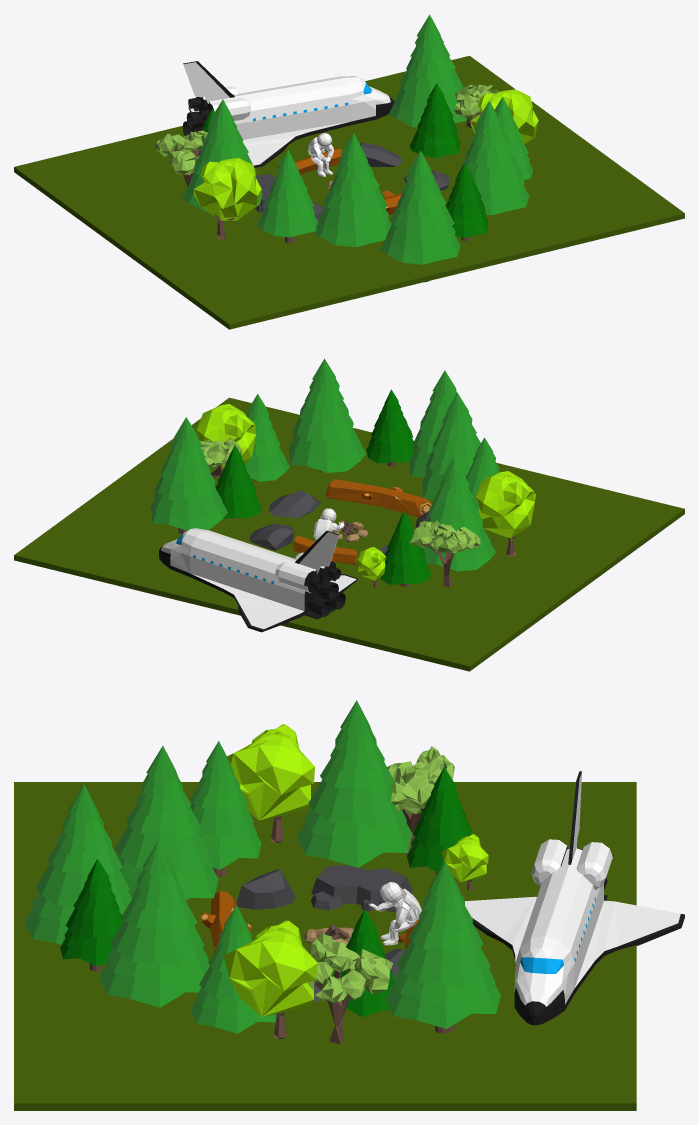
3 renders of one model, top to bottom at view 1: azimuth 30°, elevation 25°; view 2: azimuth 150°, elevation 25°; view 3: azimuth 270°, elevation 25°, orthographic. The views are drawn at different scales.
Parts seen in each view (by area): view 1: Cube, group124037832, Tree.011, Tree.012, Tree.004, Tree.006, Tree.002, Tree.010, Tree.003, Tree.005, Tree.013, Tree.009 (+5 smaller); view 2: Cube, group124037832, Tree.006, Tree.004, Tree.003, Tree.002, Tree.012, Tree.013, Tree, Tree.008, group1305922676, Tree.011 (+10 smaller); view 3: Cube, group124037832, Tree.006, Tree.003, Tree.004, Tree.012, Tree.011, Tree.009, Tree.002, Tree.010, Tree.007, Tree.008 (+9 smaller).
Part boxes in pixels (bbox=[...]): Cube: bbox=[14, 55, 684, 329]; group124037832: bbox=[182, 61, 394, 167]; Tree.011: bbox=[380, 150, 460, 282]; Tree.012: bbox=[313, 133, 391, 247]; Tree.004: bbox=[459, 101, 529, 215]; Tree.006: bbox=[389, 14, 466, 127]; Tree.002: bbox=[193, 158, 261, 239]; Tree.010: bbox=[257, 149, 317, 242]; Tree.003: bbox=[182, 99, 262, 211]; Tree.005: bbox=[409, 83, 459, 158]; Tree.013: bbox=[446, 163, 488, 240]; Tree.009: bbox=[470, 89, 538, 144]; Cube: bbox=[14, 397, 684, 671]; group124037832: bbox=[159, 528, 357, 632]; Tree.006: bbox=[150, 417, 227, 534]; Tree.004: bbox=[289, 358, 366, 472]; Tree.003: bbox=[421, 457, 495, 571]; Tree.002: bbox=[475, 471, 535, 556]; Tree.012: bbox=[421, 392, 480, 499]; Tree.013: bbox=[366, 389, 414, 466]; Tree: bbox=[380, 511, 431, 586]; Tree.008: bbox=[244, 394, 289, 481]; group1305922676: bbox=[326, 479, 432, 517]; Tree.011: bbox=[409, 370, 457, 477]; Cube: bbox=[14, 782, 636, 1110]; group124037832: bbox=[465, 771, 684, 1025]; Tree.006: bbox=[385, 861, 500, 1033]; Tree.003: bbox=[297, 700, 412, 867]; Tree.004: bbox=[99, 840, 209, 1007]; Tree.012: bbox=[114, 746, 218, 899]; Tree.011: bbox=[24, 784, 131, 944]; Tree.009: bbox=[223, 920, 317, 1038]; Tree.002: bbox=[227, 724, 314, 842]; Tree.010: bbox=[190, 741, 261, 876]; Tree.007: bbox=[307, 933, 392, 1044]; Tree.008: bbox=[190, 905, 276, 1033].
Size of the model in its own units: 12.39 by 3.93 by 10.93.
